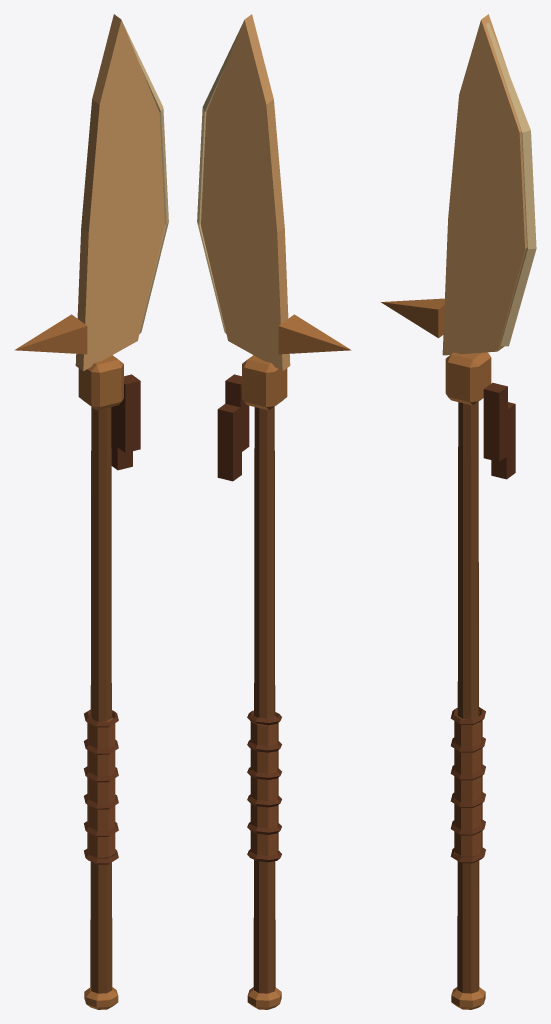
Rendered from WoodGlaive.fbx.
The picture shows the model from 3 angles, left to right: view 1: azimuth 30°, elevation 25°; view 2: azimuth 150°, elevation 25°; view 3: azimuth 330°, elevation 25°; orthographic projection.
Parts seen in each view (by area): view 1: WoodGlaive; view 2: WoodGlaive; view 3: WoodGlaive.
Boxes of the visible parts, <box> form: WoodGlaive: <box>14,14,168,1009</box>; WoodGlaive: <box>197,14,351,1009</box>; WoodGlaive: <box>381,14,536,1009</box>.
Size of the model in its own units: 1.42 by 8.62 by 0.34.
Materials: 1 (1 with a texture image).
